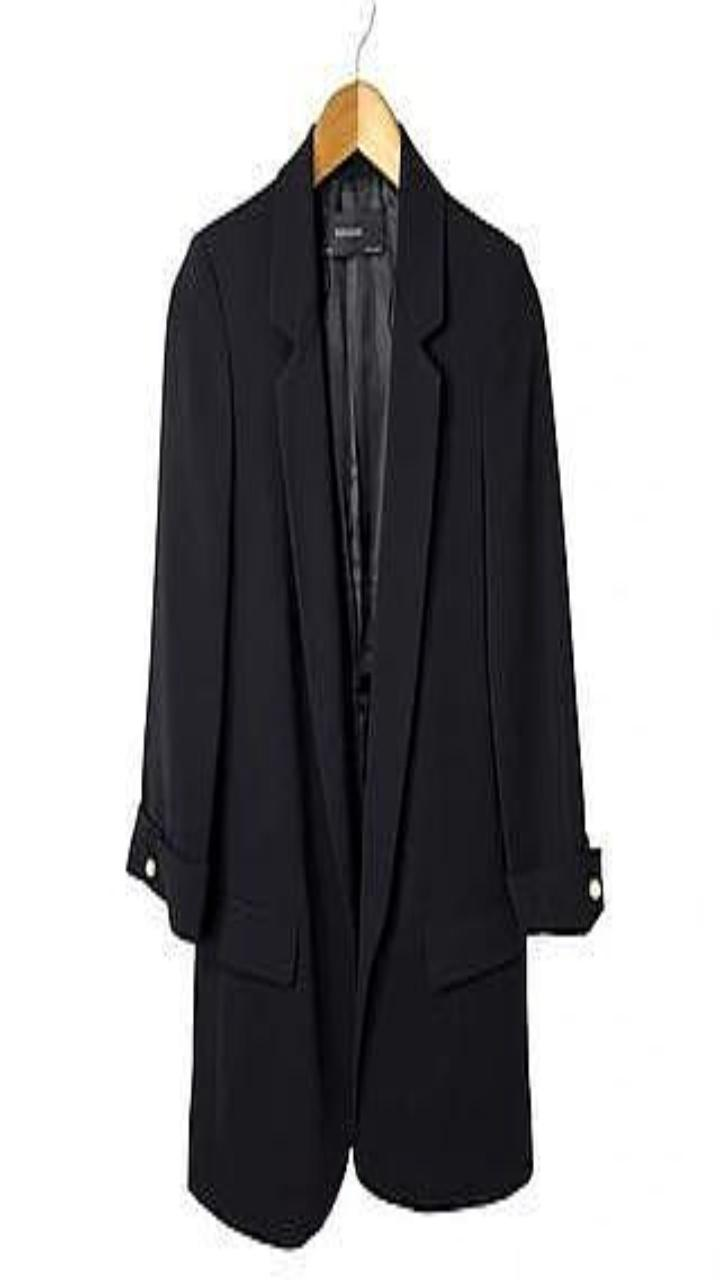Coat: (128, 130, 602, 1245)
